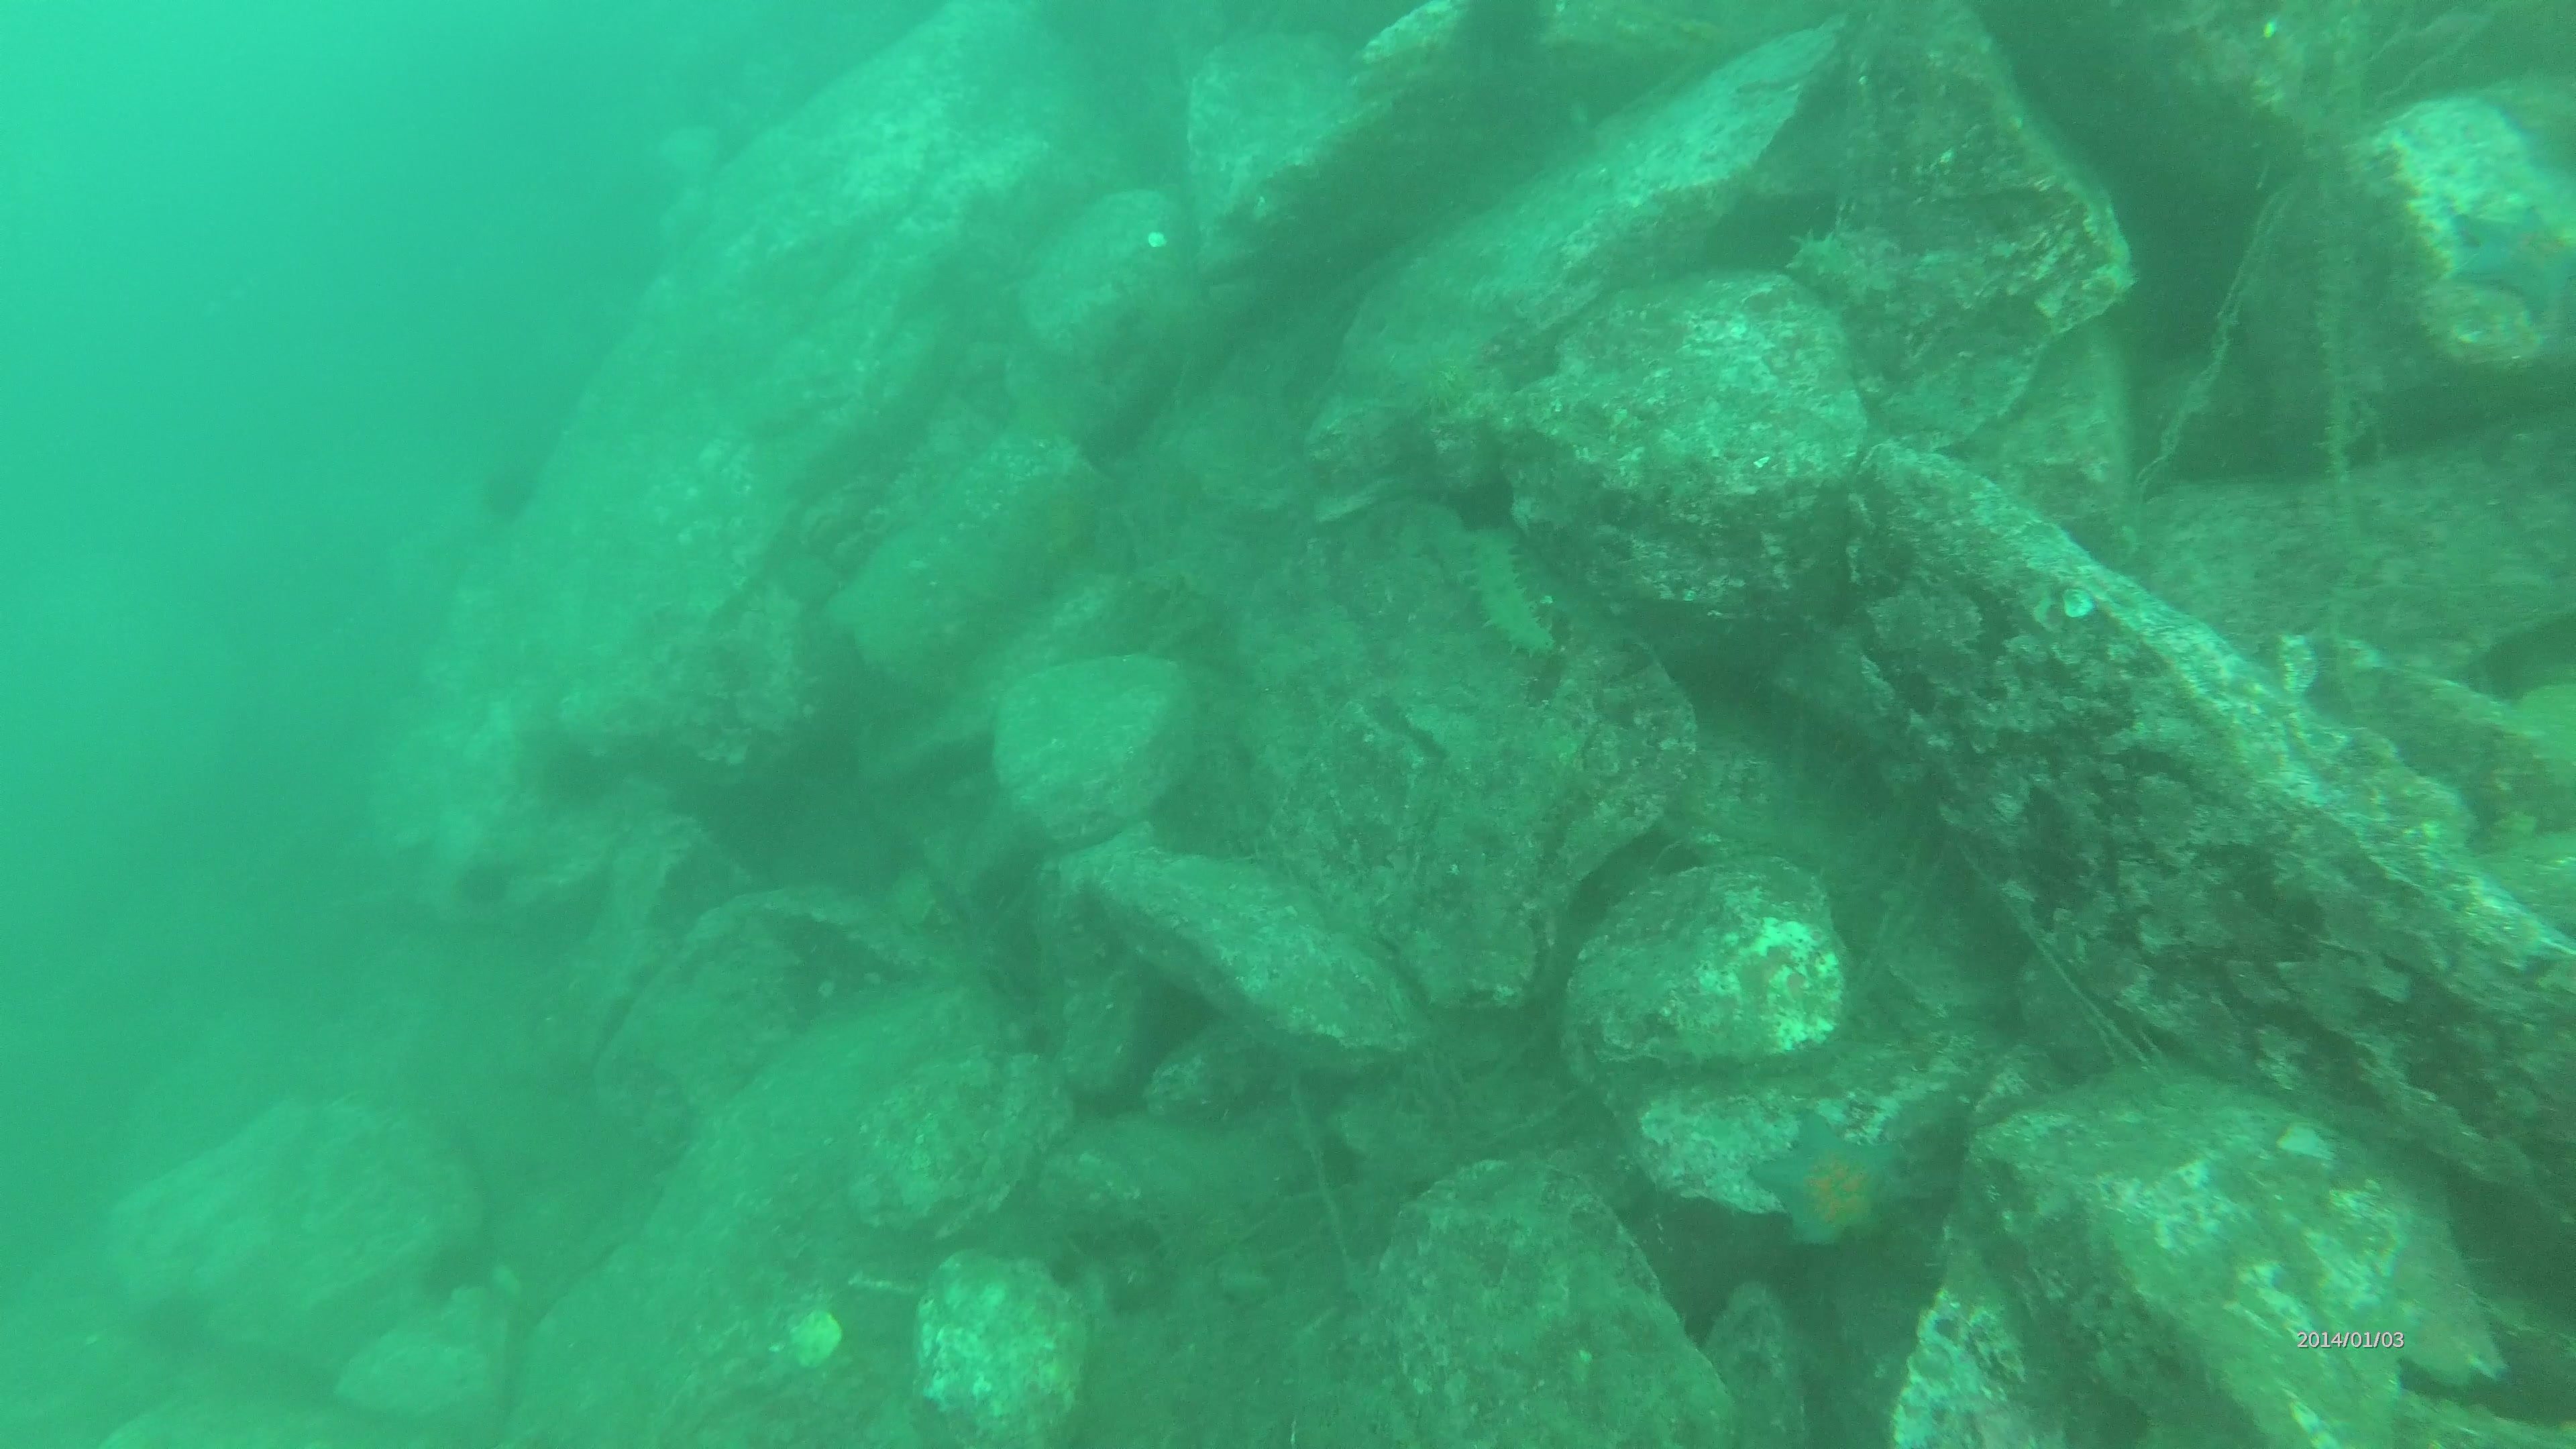echinus: (478, 456, 536, 513)
holothurian: (1437, 513, 1557, 669), (1780, 225, 1884, 311)
starfish: (1730, 1115, 1898, 1254), (2442, 191, 2576, 329)
